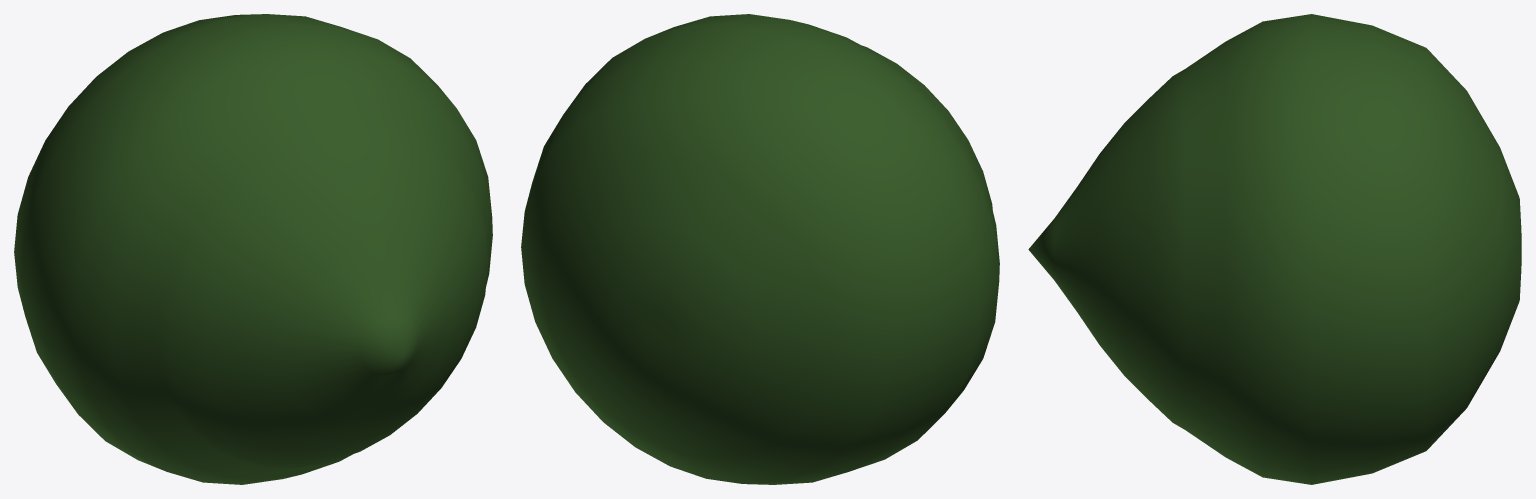
Rendered from gosma.idle.fbx.
The picture shows the model from 3 angles, left to right: view 1: azimuth 30°, elevation 25°; view 2: azimuth 150°, elevation 25°; view 3: azimuth 270°, elevation 25°; orthographic projection. The views are drawn at different scales.
Visible parts, largest first — view 1: gosma.001; view 2: gosma.001; view 3: gosma.001.
Part boxes in pixels (x1,y1,x2,y2): gosma.001: (14, 14, 492, 484); gosma.001: (521, 14, 999, 484); gosma.001: (1028, 14, 1521, 484).
Size of the model in its own units: 16.71 by 16.1 by 16.96.
